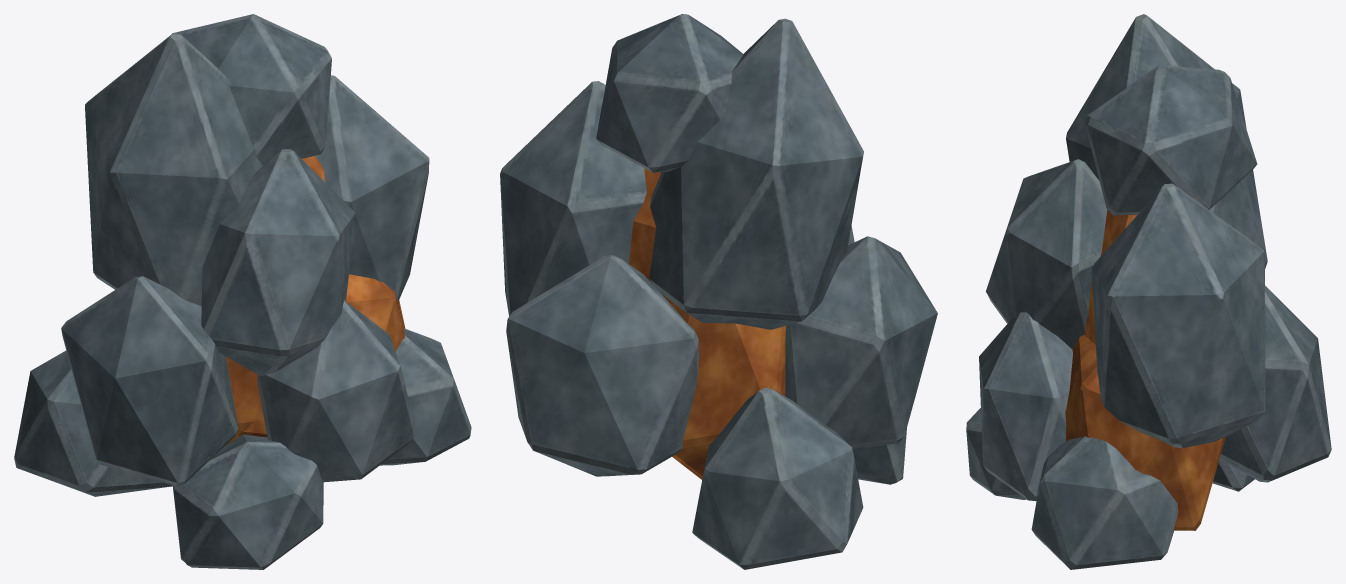
Rendered from BlenderIronOre.glb.
3 renders of one model, left to right at view 1: azimuth 30°, elevation 25°; view 2: azimuth 150°, elevation 25°; view 3: azimuth 270°, elevation 25°, orthographic. The views are drawn at different scales.
Parts seen in each view (by area): view 1: BlenderIronOre; view 2: BlenderIronOre; view 3: BlenderIronOre.
Part boxes in pixels (x1,y1,x2,y2): BlenderIronOre: (14,14,471,569); BlenderIronOre: (500,14,937,569); BlenderIronOre: (966,14,1331,569).
Bounding box in the file's own units: 1 × 1.25 × 0.8769.
1 material, 1 textured.
